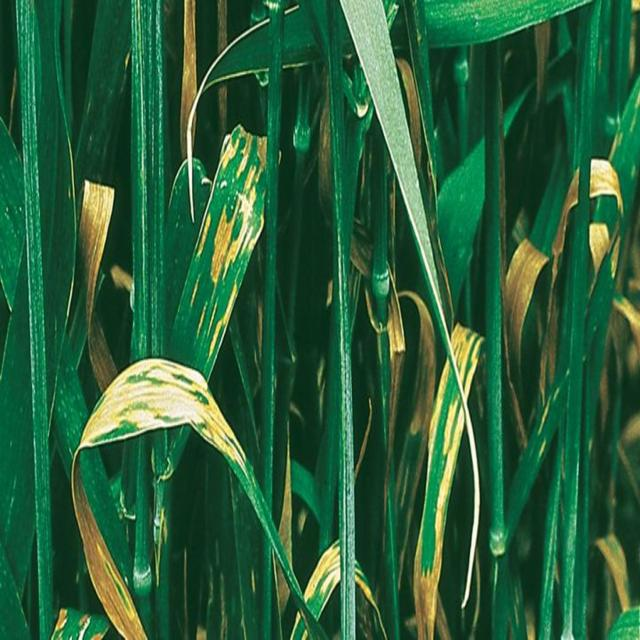wheat-septoria: (164, 133, 269, 353), (413, 325, 480, 639), (90, 358, 249, 478)
